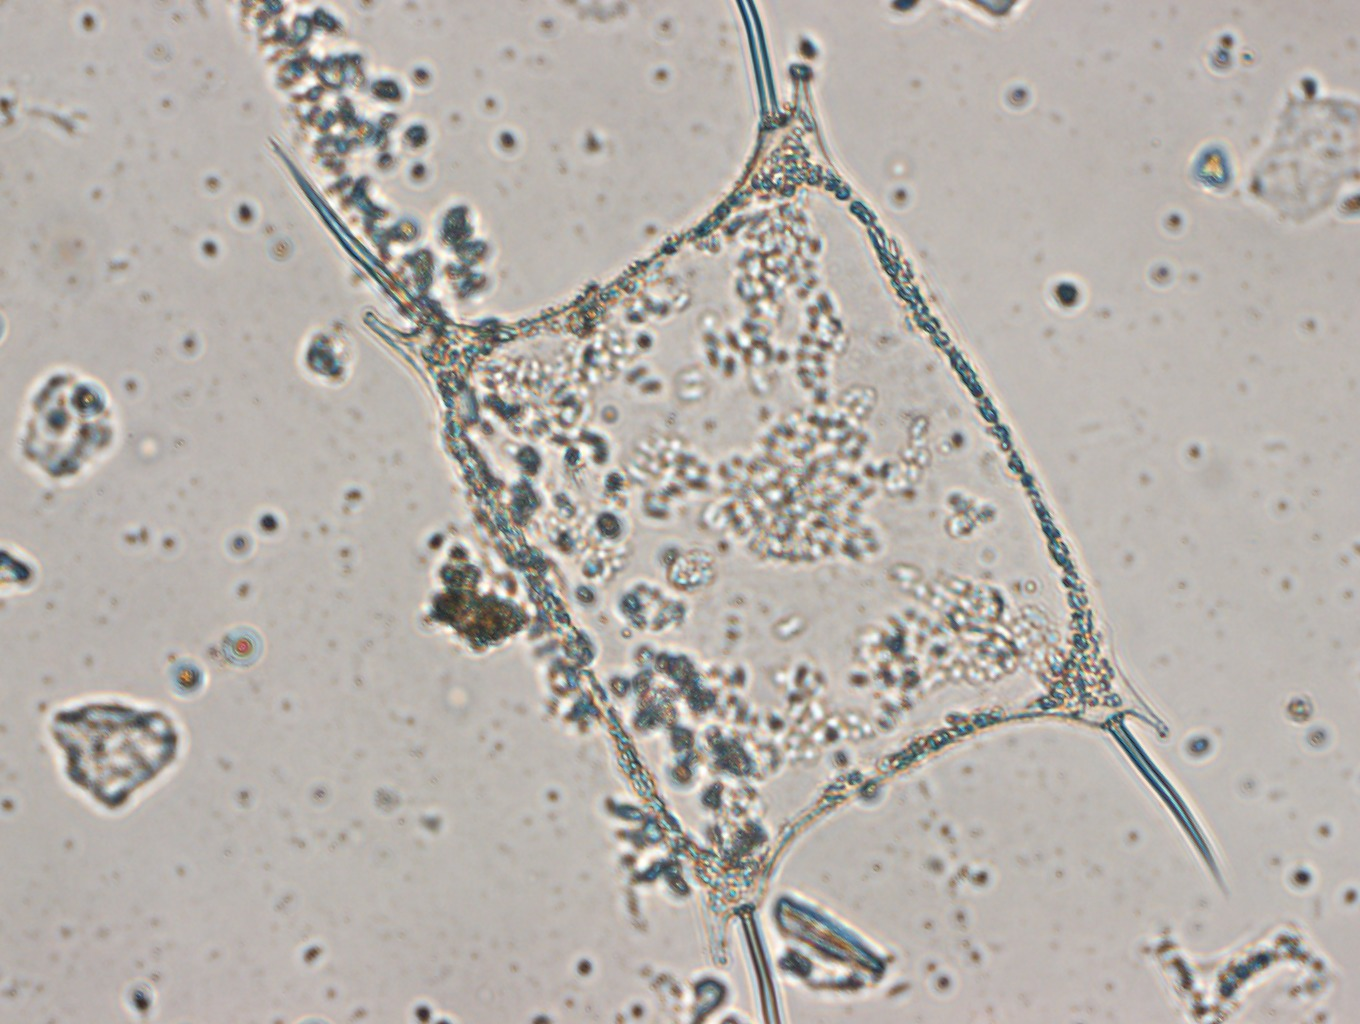biddulphia: (266, 1, 1227, 1024)
